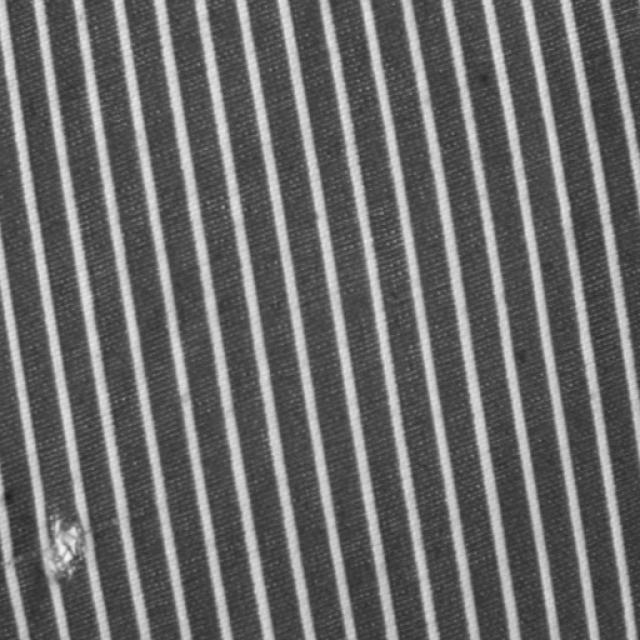Hole-Defect: (1, 503, 148, 587)
